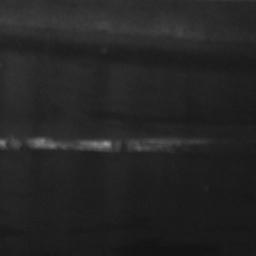Bright scratch: (28, 137, 210, 154), (0, 136, 23, 151)
